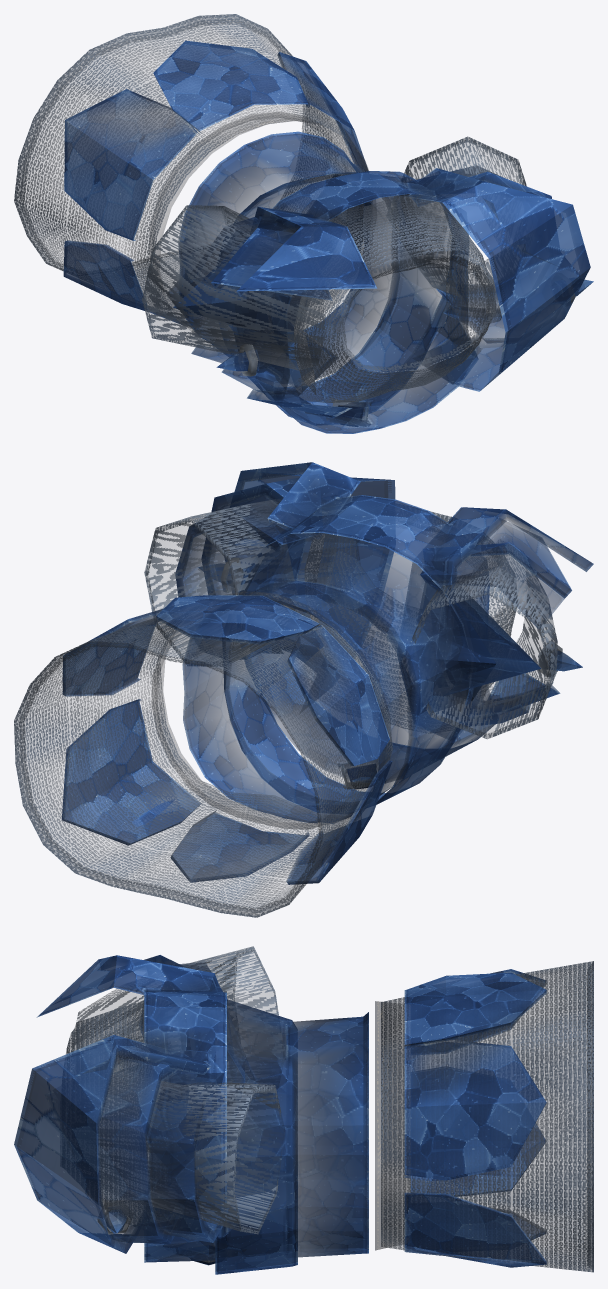
File: cuirasse_saphir.glb
3 views of the same model, one above another, from view 1: azimuth 30°, elevation 25°; view 2: azimuth 150°, elevation 25°; view 3: azimuth 270°, elevation 25° (orthographic). The views are drawn at different scales.
Visible parts, largest first — view 1: cuirasse_saphir.001; view 2: cuirasse_saphir.001; view 3: cuirasse_saphir.001.
Part boxes in pixels (x1,y1,x2,y2): cuirasse_saphir.001: (14,14,593,433); cuirasse_saphir.001: (14,462,593,917); cuirasse_saphir.001: (14,946,593,1274).
Size of the model in its own units: 0.7996 by 0.5136 by 0.9801.
Materials: 5 (5 with a texture image).
